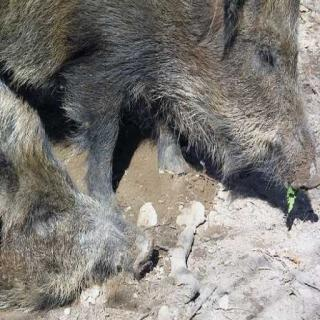Pig: (4, 0, 320, 237), (10, 180, 150, 318)
